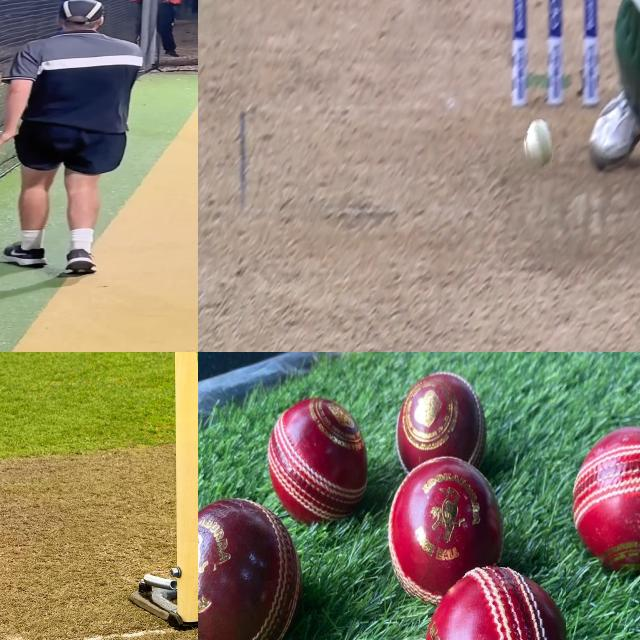Cricket ball: (265, 392, 378, 529), (198, 495, 304, 640), (388, 453, 504, 577), (406, 563, 565, 640), (570, 415, 640, 572), (394, 365, 489, 457), (523, 120, 552, 172)
Stumps: (510, 0, 599, 111)
